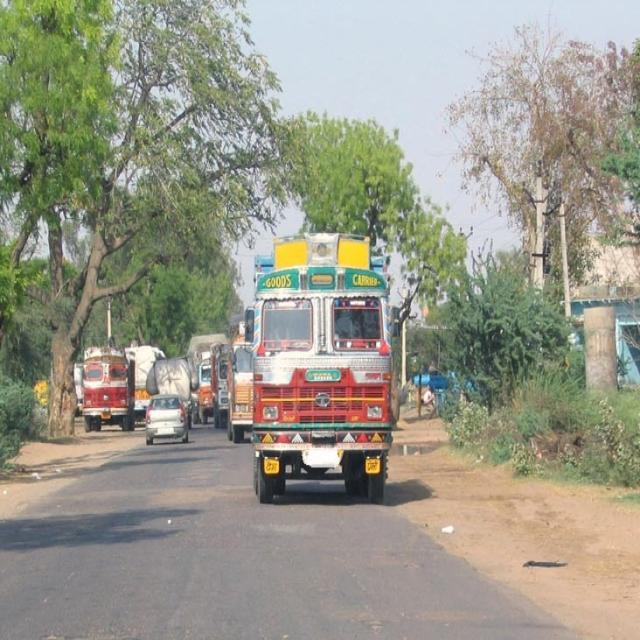car_back: (142, 388, 192, 450)
truck_front: (243, 223, 399, 510), (80, 336, 138, 436), (227, 306, 254, 448), (186, 324, 213, 424), (206, 342, 228, 429)
